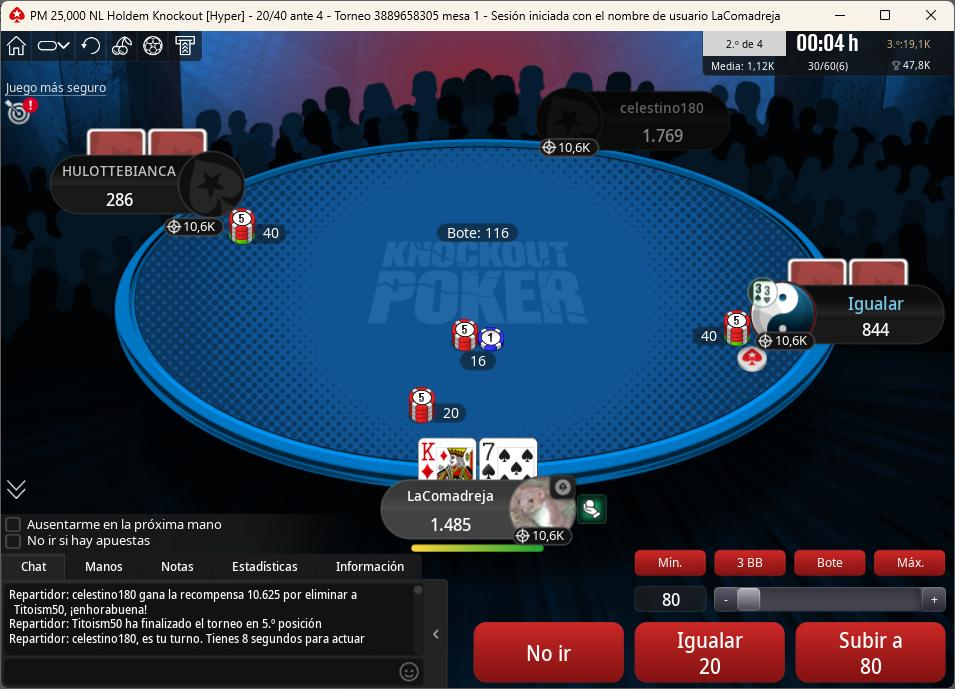ButtonCall: (628, 614, 784, 684)
ButtonFold: (472, 620, 631, 685)
ButtonMaxRaise: (870, 548, 950, 581)
ButtonMinRaise: (633, 547, 711, 580)
ButtonPotRaise: (792, 546, 871, 581)
ButtonRaise: (790, 617, 950, 685)
Dealer: (732, 340, 773, 377)
HiddenCards: (84, 132, 211, 160), (787, 259, 913, 286)
Player: (748, 282, 952, 351), (52, 151, 250, 215), (546, 92, 734, 158)
PlayerBet: (689, 308, 758, 350), (229, 208, 293, 248)
PlayerChips: (633, 125, 692, 144), (856, 322, 898, 342), (98, 192, 140, 211)
Pot: (434, 223, 521, 244)
PrincipalBet: (406, 387, 473, 427)
PrincipalCards: (413, 436, 543, 483)
PrincipalCards1: (416, 435, 476, 482)
PrincipalCards2: (478, 436, 540, 485)
PrincipalPlayer: (385, 474, 587, 551)
PrincipalPlayerChips: (424, 517, 481, 537)
SmallBigBlind: (244, 1, 336, 30)
TablePot: (440, 315, 535, 375)
